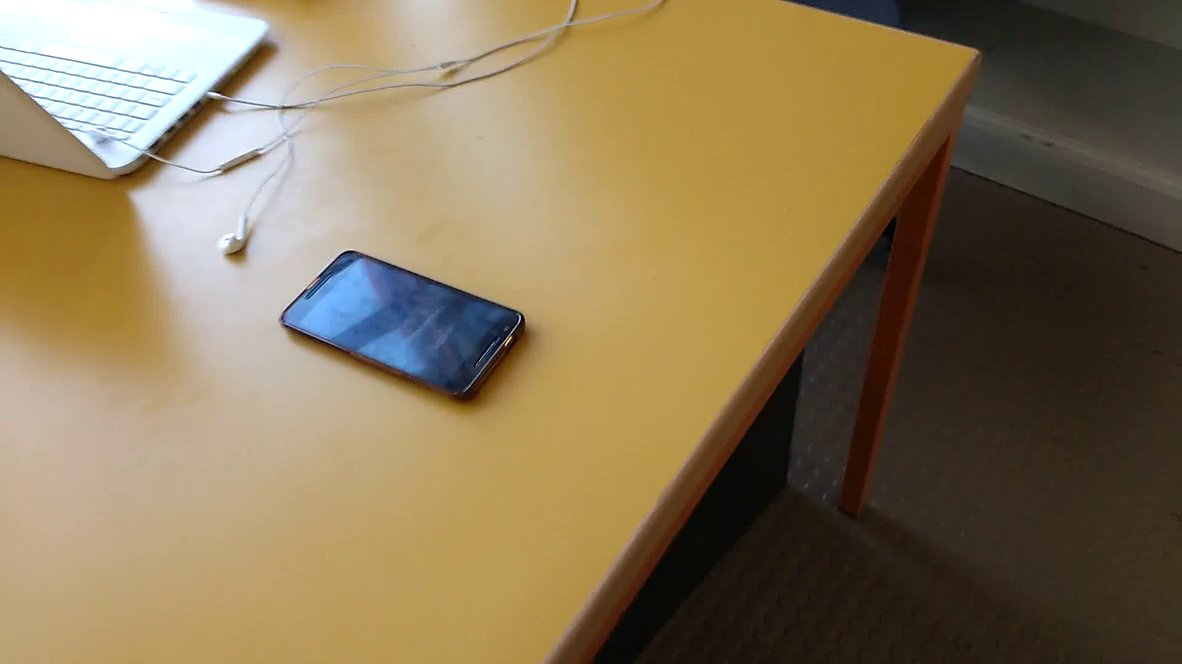phone: (272, 242, 539, 413)
